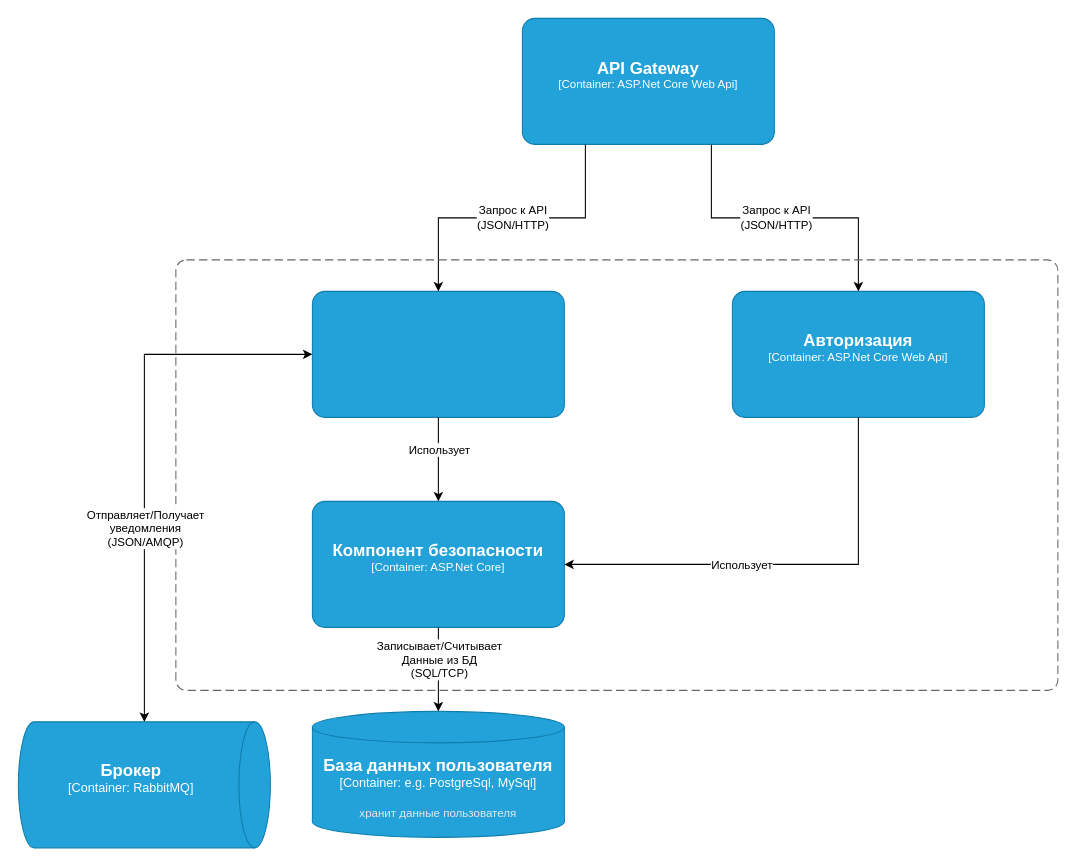
The diagram is 1076 pixels wide and 866 high, and some of its shapes have lost their labels. Here are the shapes that lost their labels. From the top down, the box of each, then its label:
(311, 290, 564, 417): Контроллер пользователя [Container: ASP.Net Core MVC]
(175, 259, 1058, 690): Сервис пользователя [Компонент]
